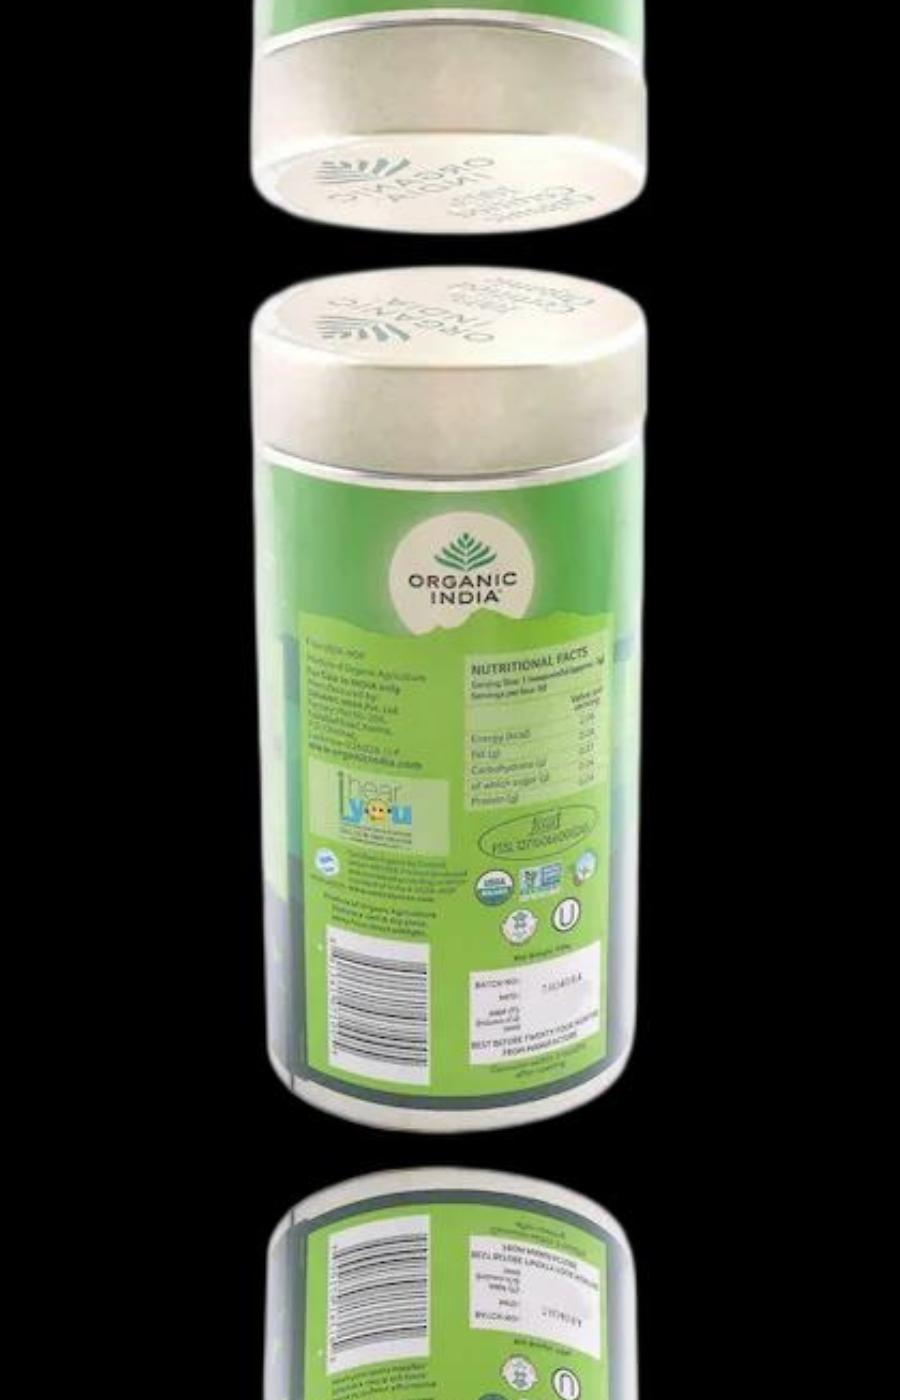Organic India Tulsi Green Tea 100 g: (240, 266, 658, 1136), (240, 1164, 658, 1400), (240, 0, 658, 233)
